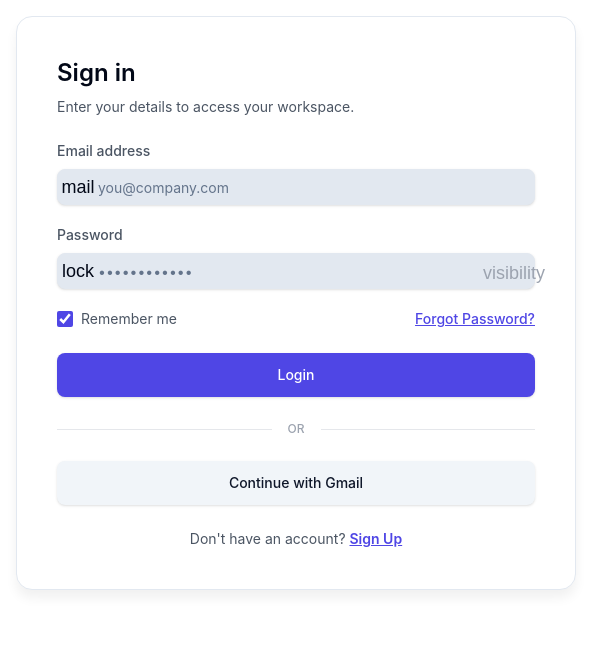
Scenario: LoginPage › shows API error on failed login
In the field labelled "Email address": (296, 187) [57,169,535,205], type "user@example.com"
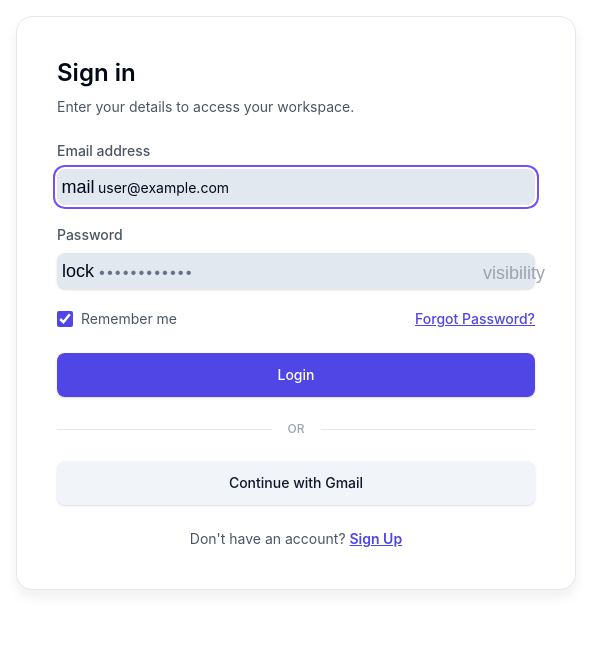
In the password field labelled "Password": (296, 271) [57,253,535,289], type "wrong"
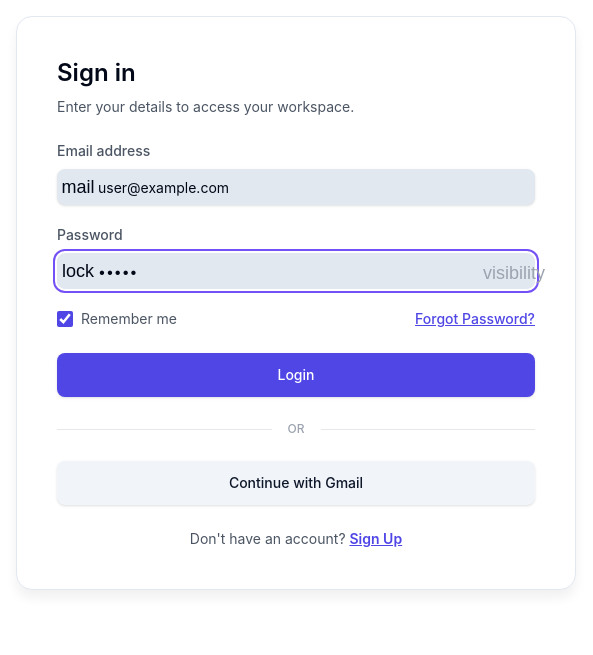
Click the button "Login": (296, 375) [57,353,535,397]
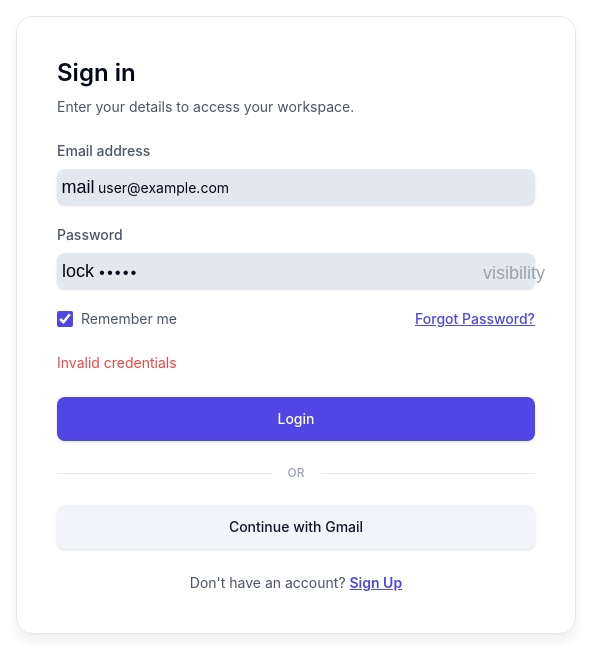
Expected: the text "Invalid credentials" is shown, [57,354,177,371]
